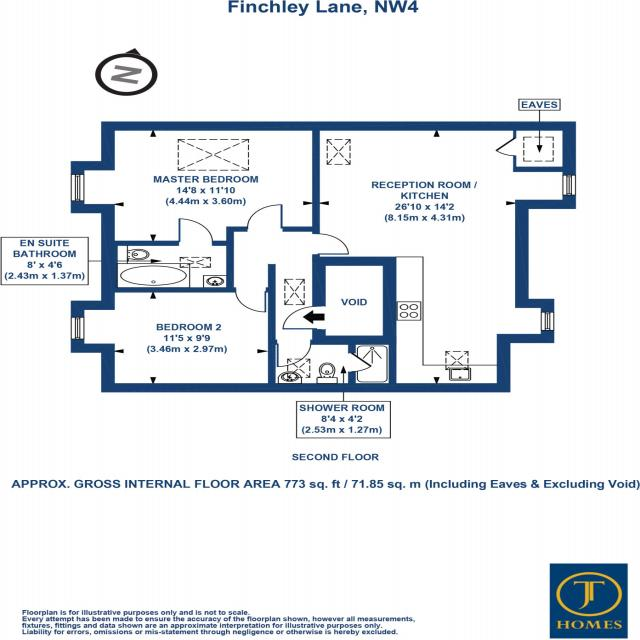DOOR: (280, 303, 328, 332), (245, 201, 286, 234), (175, 216, 217, 247), (309, 231, 355, 258), (275, 338, 314, 368), (232, 286, 270, 315)
ROOM: (309, 120, 578, 395), (67, 119, 321, 247), (69, 286, 278, 393)
WINDOW: (70, 173, 86, 202), (70, 316, 86, 340), (561, 174, 577, 196), (540, 310, 555, 332)
